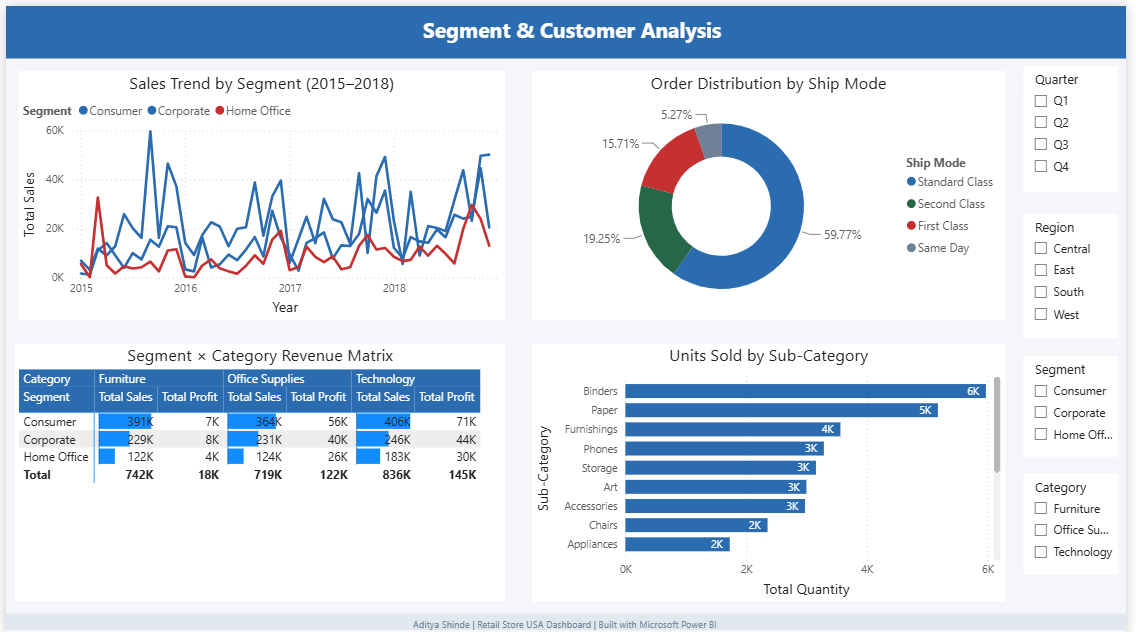

What the dashboard file says about the page in this screenshot:
{"tool":"powerbi","page":{"name":"Segment Analysis","canvas":[1280,720],"ordinal":4},"visuals":[{"type":"shape","box":[0,695,1280,25],"z":0},{"type":"textbox","box":[457.2,691,365.6,29],"z":1000},{"type":"shape","box":[0,0,1280,60.3],"z":2000},{"type":"textbox","box":[471.7,6,388.5,48.3],"z":3000},{"type":"lineChart","title":"Sales Trend by Segment (2015–2018)","fields":{"Y":["Measure.Total Sales"],"Series":["Orders.Segment"],"Category":["Orders.Order Date Fixed.Variation.Date Hierarchy.Year","Orders.Order Date Fixed.Variation.Date Hierarchy.Month"]},"box":[14.5,74.8,556.2,284.7],"z":4000},{"type":"donutChart","title":"Order Distribution by Ship Mode","fields":{"Y":["Measure.Total Orders"],"Category":["Orders.Ship Mode"]},"box":[600.8,74.8,540.5,284.7],"z":5000},{"type":"pivotTable","title":"Segment × Category Revenue Matrix","fields":{"Rows":["Orders.Segment"],"Columns":["Orders.Category"],"Values":["Measure.Total Sales","Measure.Total Profit"]},"box":[9.7,386.1,561,295.6],"z":6000},{"type":"clusteredBarChart","title":"Units Sold by Sub-Category","fields":{"Category":["Orders.Sub-Category"],"Y":["Measure.Total Quantity"]},"box":[600.8,386.1,540.5,295.6],"z":7000},{"type":"slicer","fields":{"Values":["DateTable.Quarter"]},"box":[1163,68,108,144],"z":8000},{"type":"slicer","fields":{"Values":["Orders.Region"]},"box":[1163,237,108,142],"z":9000},{"type":"slicer","fields":{"Values":["Orders.Segment"]},"box":[1163,400,108,115],"z":10000},{"type":"slicer","fields":{"Values":["Orders.Category"]},"box":[1163,534,108,115],"z":11000}]}

Visuals, with their boxes in screenshot pixels (x1, y1, x2, y2), scaled from the page's 1280x720 canvas onto the 1136x632 screenshot:
shape: [left=0, top=610, right=1135, bottom=631]
textbox: [left=406, top=607, right=730, bottom=631]
shape: [left=0, top=0, right=1135, bottom=53]
textbox: [left=419, top=5, right=763, bottom=48]
"Sales Trend by Segment (2015–2018)" lineChart: [left=13, top=66, right=506, bottom=316]
"Order Distribution by Ship Mode" donutChart: [left=533, top=66, right=1013, bottom=316]
"Segment × Category Revenue Matrix" pivotTable: [left=9, top=339, right=506, bottom=598]
"Units Sold by Sub-Category" clusteredBarChart: [left=533, top=339, right=1013, bottom=598]
slicer - DateTable.Quarter: [left=1032, top=60, right=1128, bottom=186]
slicer - Orders.Region: [left=1032, top=208, right=1128, bottom=333]
slicer - Orders.Segment: [left=1032, top=351, right=1128, bottom=452]
slicer - Orders.Category: [left=1032, top=469, right=1128, bottom=570]
